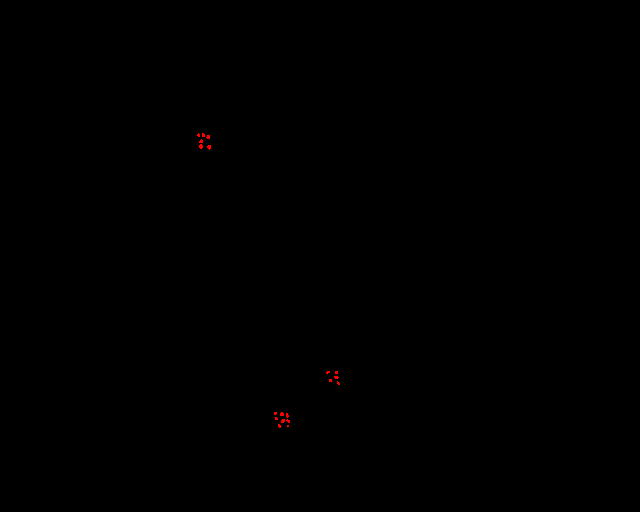Target: (199, 144, 203, 149), (207, 145, 211, 150), (206, 135, 210, 139), (199, 139, 203, 143), (280, 412, 284, 416), (281, 419, 285, 423), (286, 419, 290, 423), (334, 376, 339, 379), (286, 413, 289, 418), (197, 133, 200, 137), (202, 133, 205, 137), (326, 371, 330, 374), (337, 381, 340, 385), (278, 424, 281, 428), (335, 371, 338, 374), (329, 379, 332, 382), (274, 412, 277, 415), (275, 417, 278, 420), (287, 425, 289, 427)
